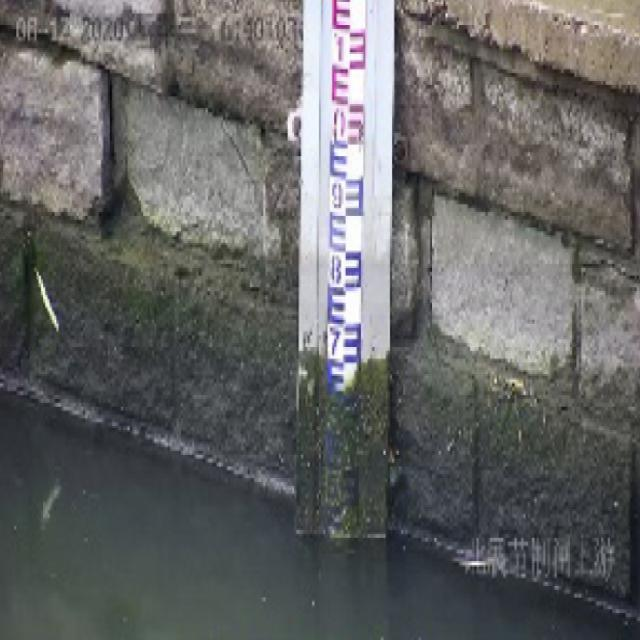water-level-meters: (303, 0, 390, 606)
